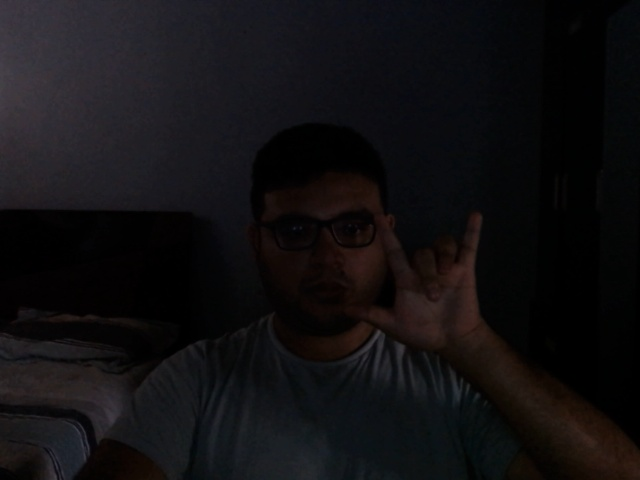I love you: (340, 209, 500, 360)
